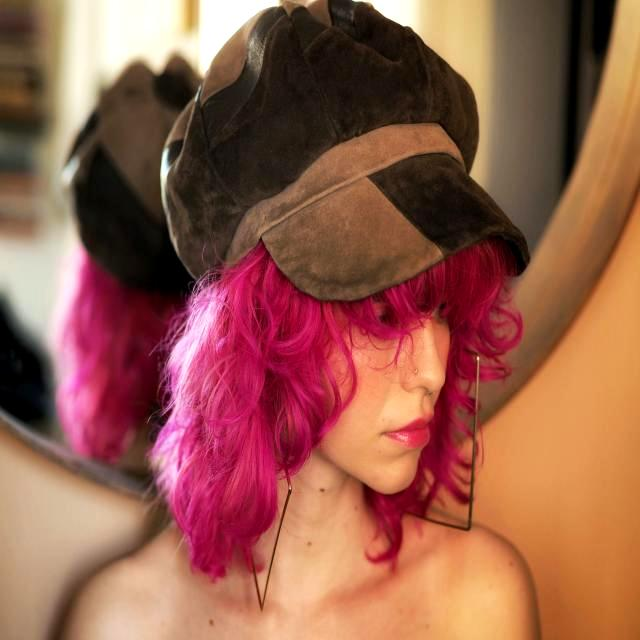no_hard_hat: (161, 0, 530, 300)
person: (58, 0, 540, 638)
